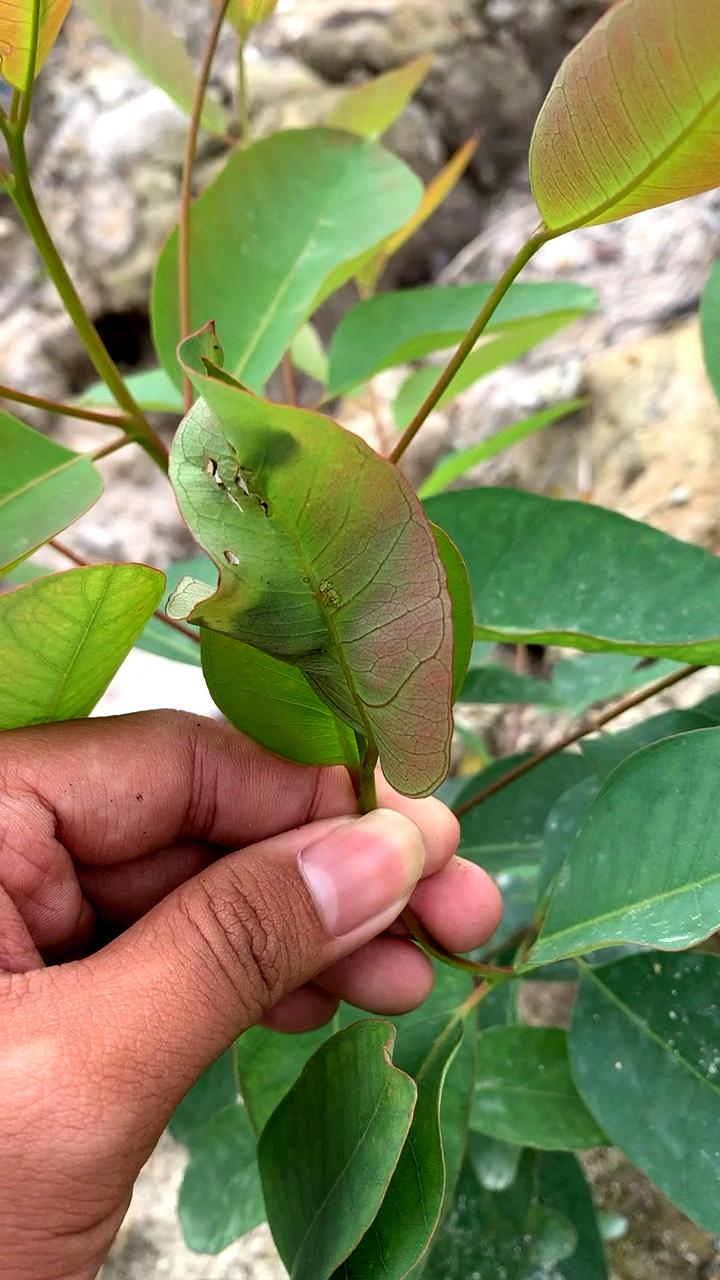Leaf Roller - Leaf: (137, 310, 518, 818)
